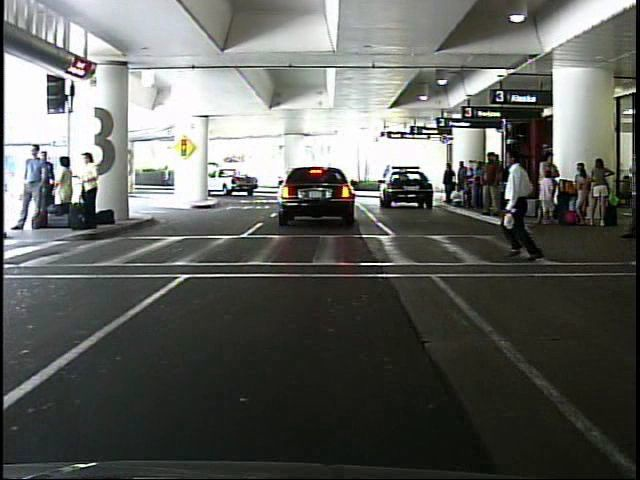person: (497, 138, 556, 269), (19, 140, 55, 236), (55, 152, 80, 226), (84, 147, 106, 231), (441, 162, 457, 206), (160, 162, 174, 190)
